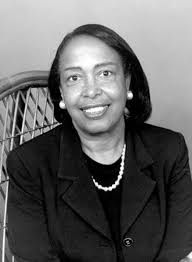black_female: (59, 33, 144, 152)
